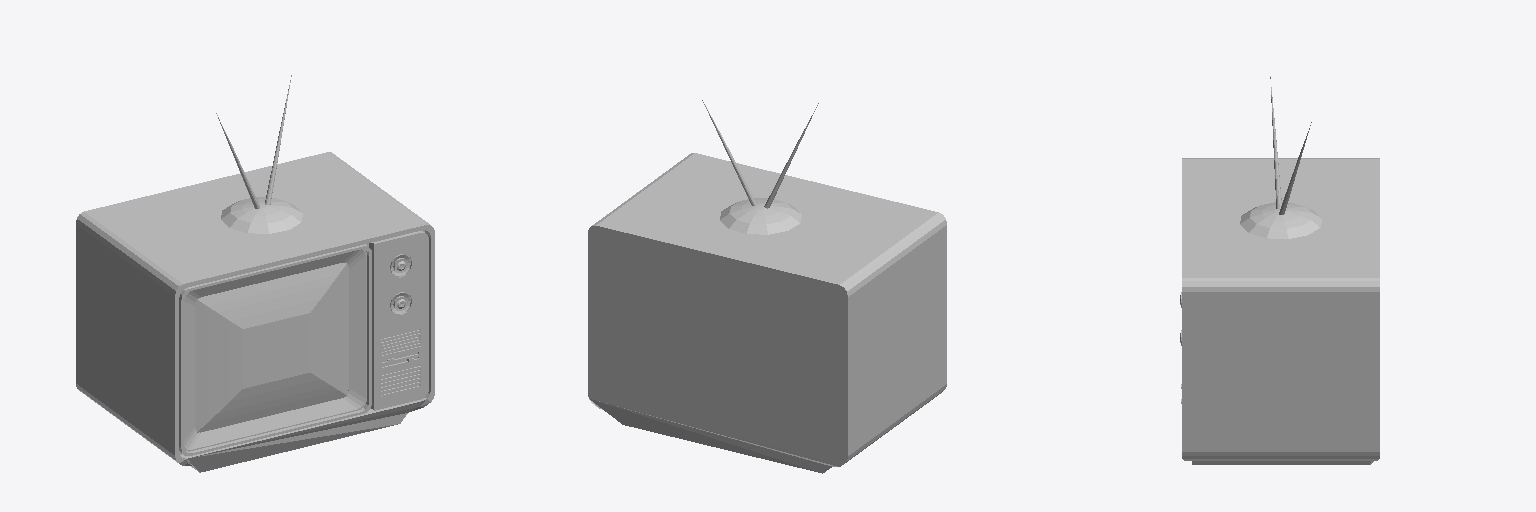
The model's file is old_tv.obj.
3 views of the same model, side by side, from view 1: azimuth 30°, elevation 25°; view 2: azimuth 150°, elevation 25°; view 3: azimuth 270°, elevation 25° (orthographic).
Visible parts, largest first — view 1: TV_television; view 2: TV_television; view 3: TV_television.
Part boxes in pixels (x1,y1,x2,y2): TV_television: (76, 75, 434, 472); TV_television: (588, 100, 946, 473); TV_television: (1180, 76, 1379, 464).
Size of the model in its own units: 3.03 by 3.56 by 2.02.